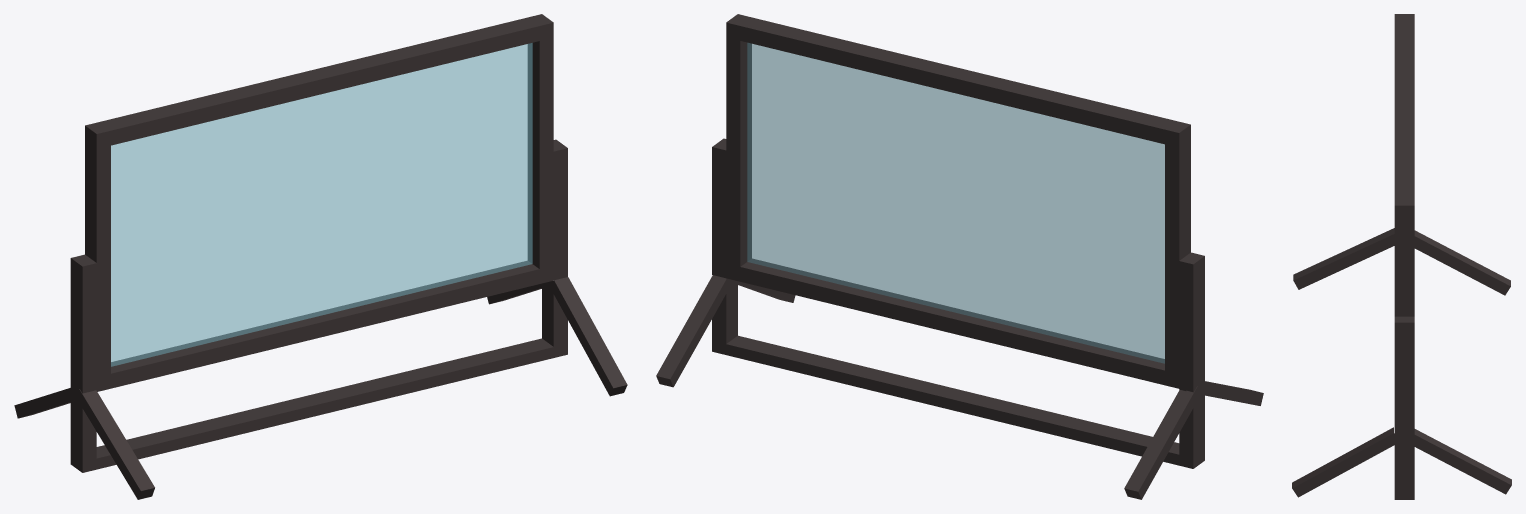
File: StandWithLegs.glb
3 renders of one model, left to right at view 1: azimuth 30°, elevation 25°; view 2: azimuth 150°, elevation 25°; view 3: azimuth 270°, elevation 25°, orthographic. The views are drawn at different scales.
Visible parts, largest first — view 1: Glass, Frame, Leg4, Leg3, Leg2; view 2: Glass, Frame, Leg2, Leg1, Leg3; view 3: Frame, Leg4, Leg3, Leg1, Leg2.
Boxes of the visible parts, x1,y1,x2,y2 form: Glass: (111, 43, 532, 366); Frame: (70, 14, 567, 472); Leg4: (550, 277, 627, 396); Leg3: (77, 389, 154, 499); Leg2: (14, 387, 77, 418); Glass: (747, 43, 1164, 363); Frame: (712, 14, 1204, 468); Leg2: (1124, 386, 1200, 499); Leg1: (656, 275, 731, 387); Leg3: (1200, 381, 1263, 405); Frame: (1394, 14, 1414, 499); Leg4: (1292, 427, 1399, 497); Leg3: (1293, 228, 1394, 289); Leg1: (1404, 429, 1511, 494); Leg2: (1414, 230, 1510, 295).
Bounding box in the file's own units: 7.89 × 5.2 × 3.59.
